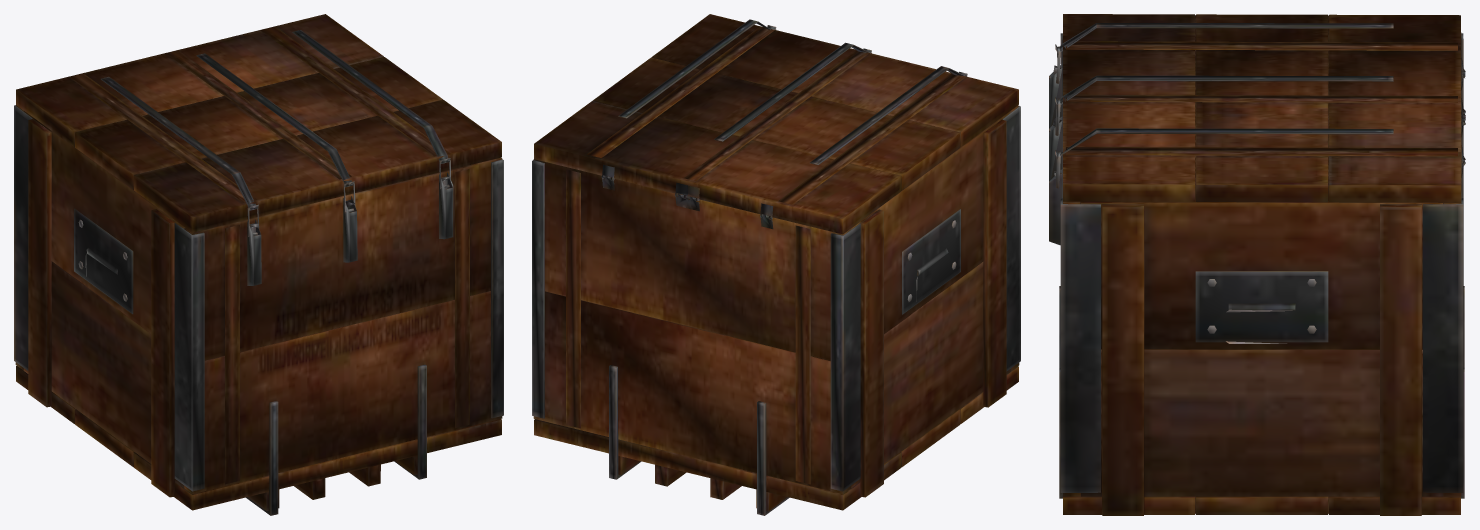
Rendered from defend.glb.
3 views of the same model, side by side, from view 1: azimuth 30°, elevation 25°; view 2: azimuth 150°, elevation 25°; view 3: azimuth 270°, elevation 25° (orthographic). The views are drawn at different scales.
Visible parts, largest first — view 1: wooden_military_crate; view 2: wooden_military_crate; view 3: wooden_military_crate.
Boxes of the visible parts, x1=… form: wooden_military_crate: x1=14, y1=14, x2=503, y2=515; wooden_military_crate: x1=532, y1=14, x2=1020, y2=515; wooden_military_crate: x1=1049, y1=14, x2=1465, y2=515.
Size of the model in its own units: 1 by 0.9999 by 0.9998.
Materials: 1 (1 with a texture image).
